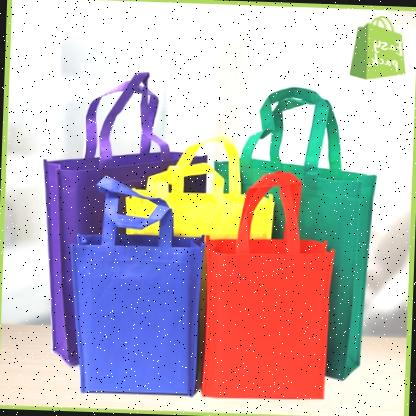person: (232, 81, 387, 370), (26, 60, 170, 362), (197, 167, 343, 406), (67, 172, 213, 404)
